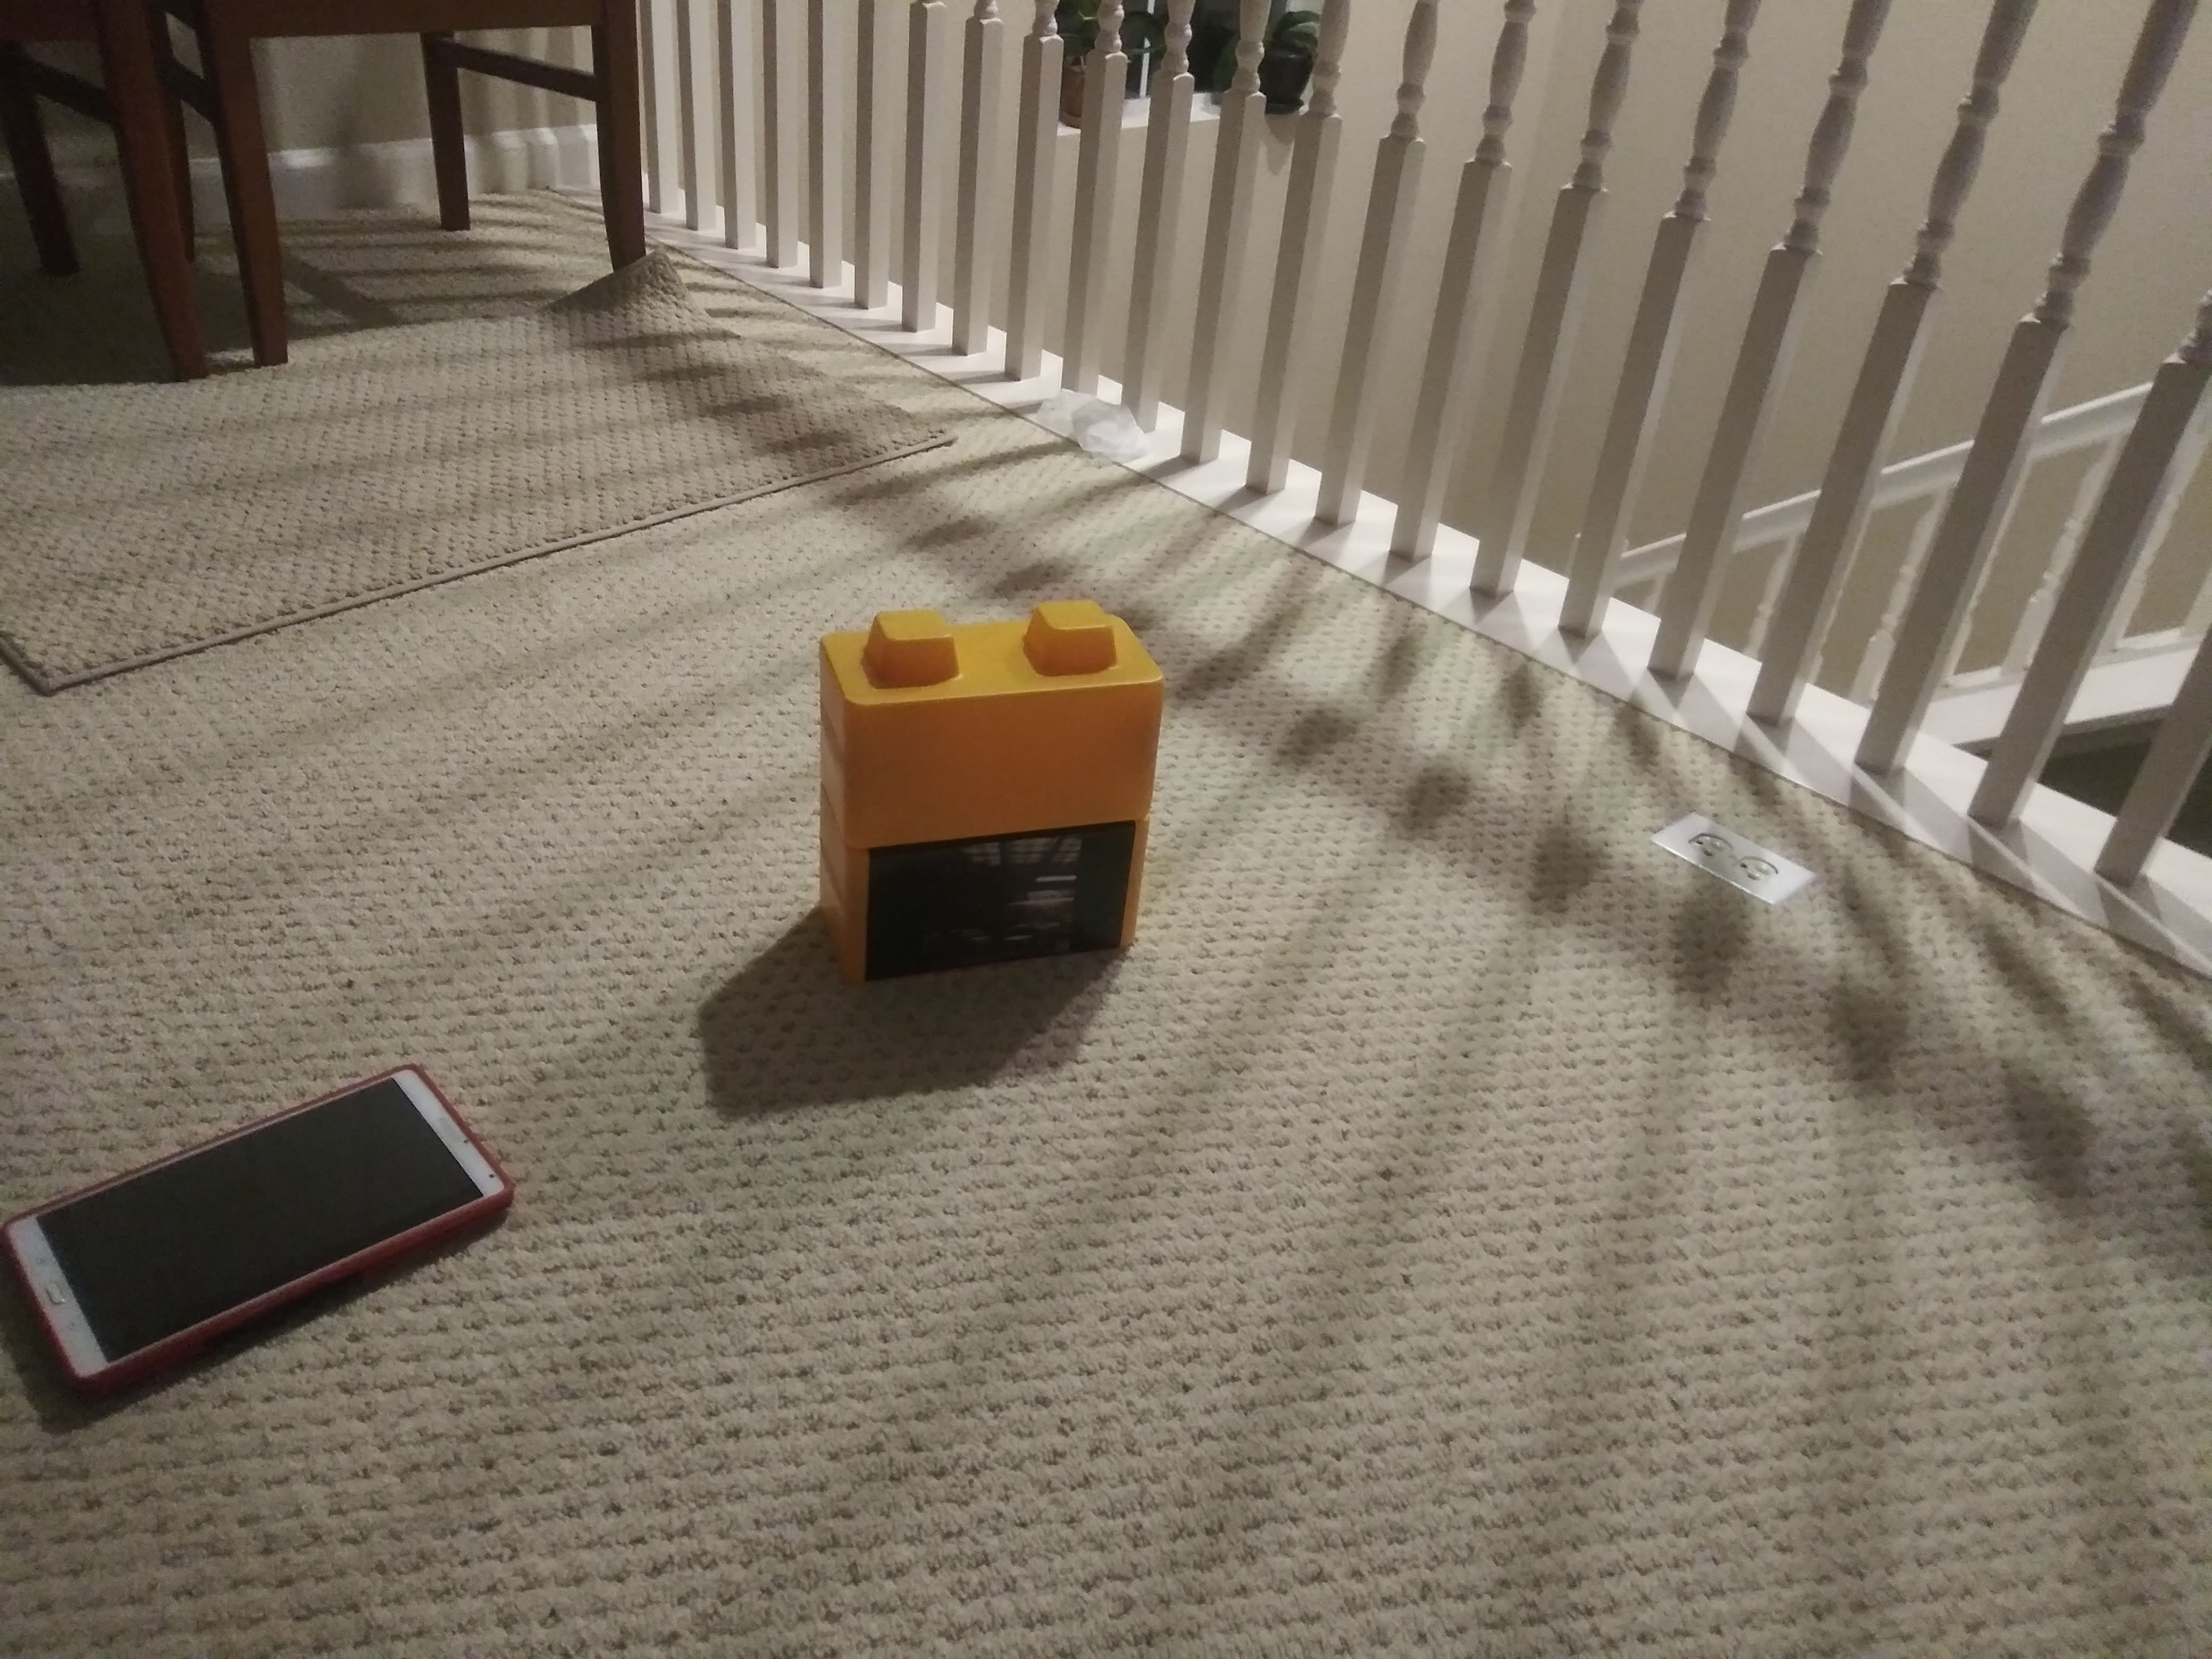skystone: (822, 833, 1141, 978)
stone: (805, 645, 1172, 817)
